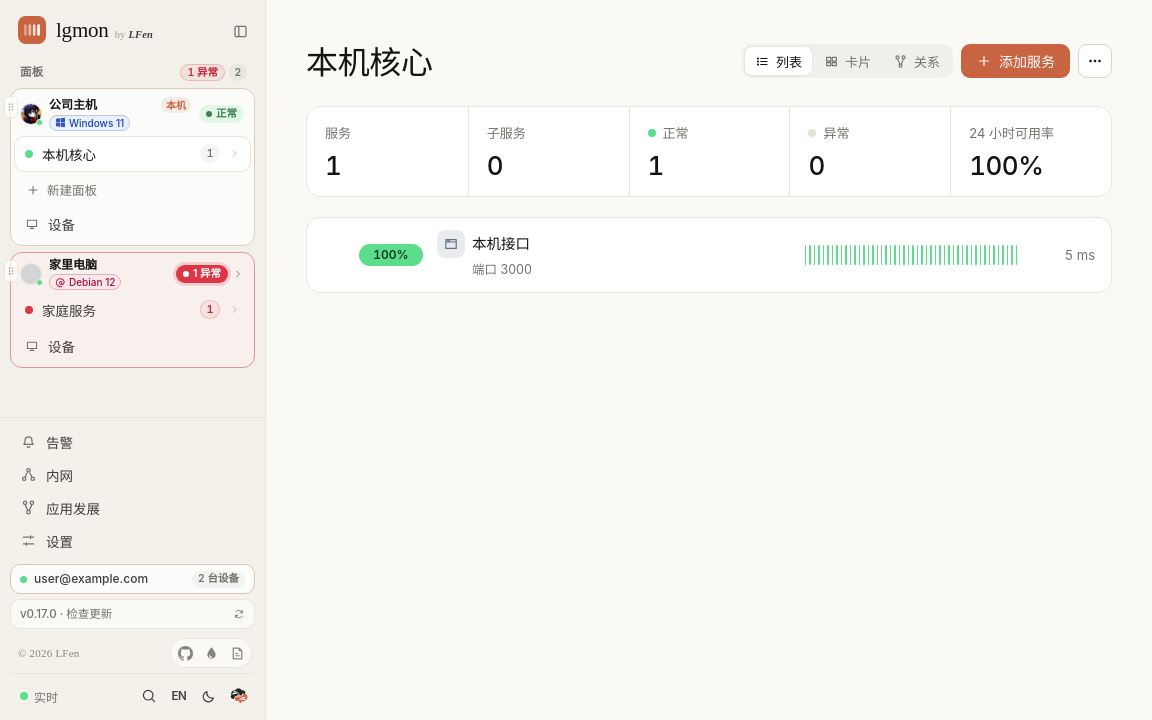
Scenario: puts Devices in each device card and shows another device's synced sample
Click the link "设备" below "家庭服务" at (50, 347), box [25,339,75,355]
(page scrolled)
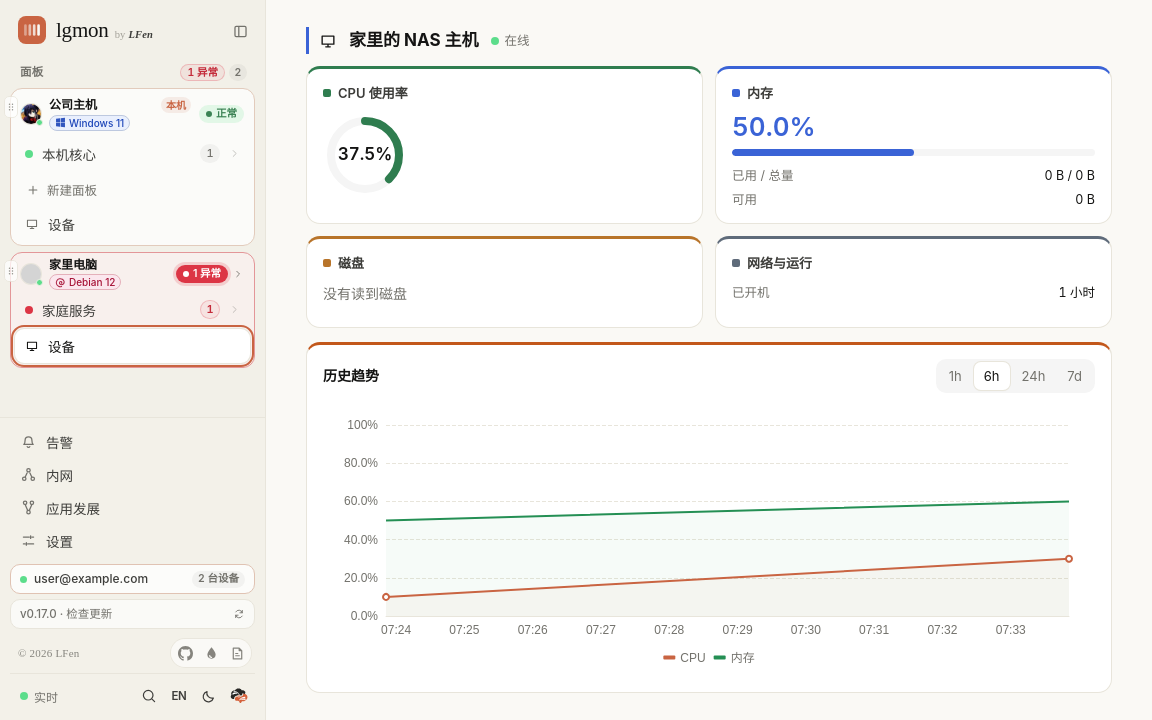
Result: the element "家里的 NAS 主机" is shown
